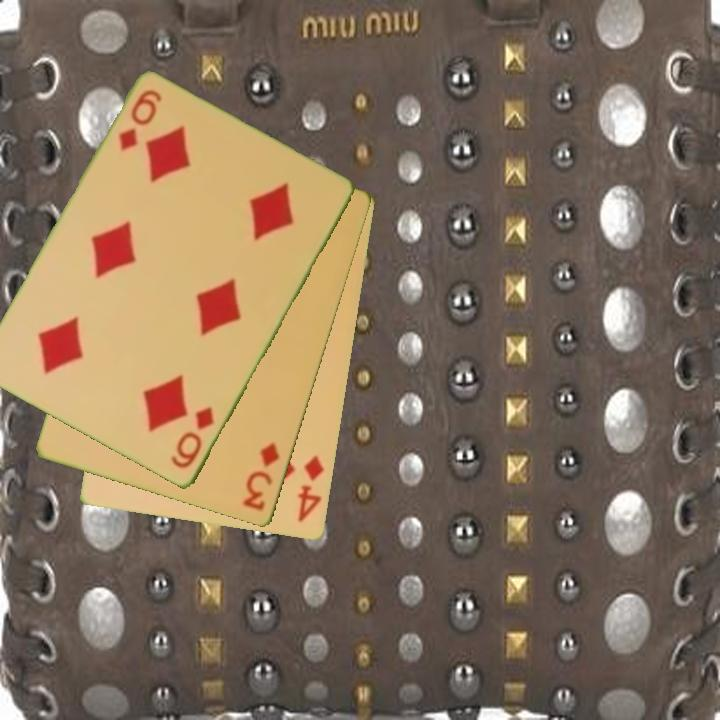3d: (239, 439, 283, 514)
4d: (294, 452, 327, 525)
6d: (167, 403, 218, 473), (115, 86, 165, 155)
